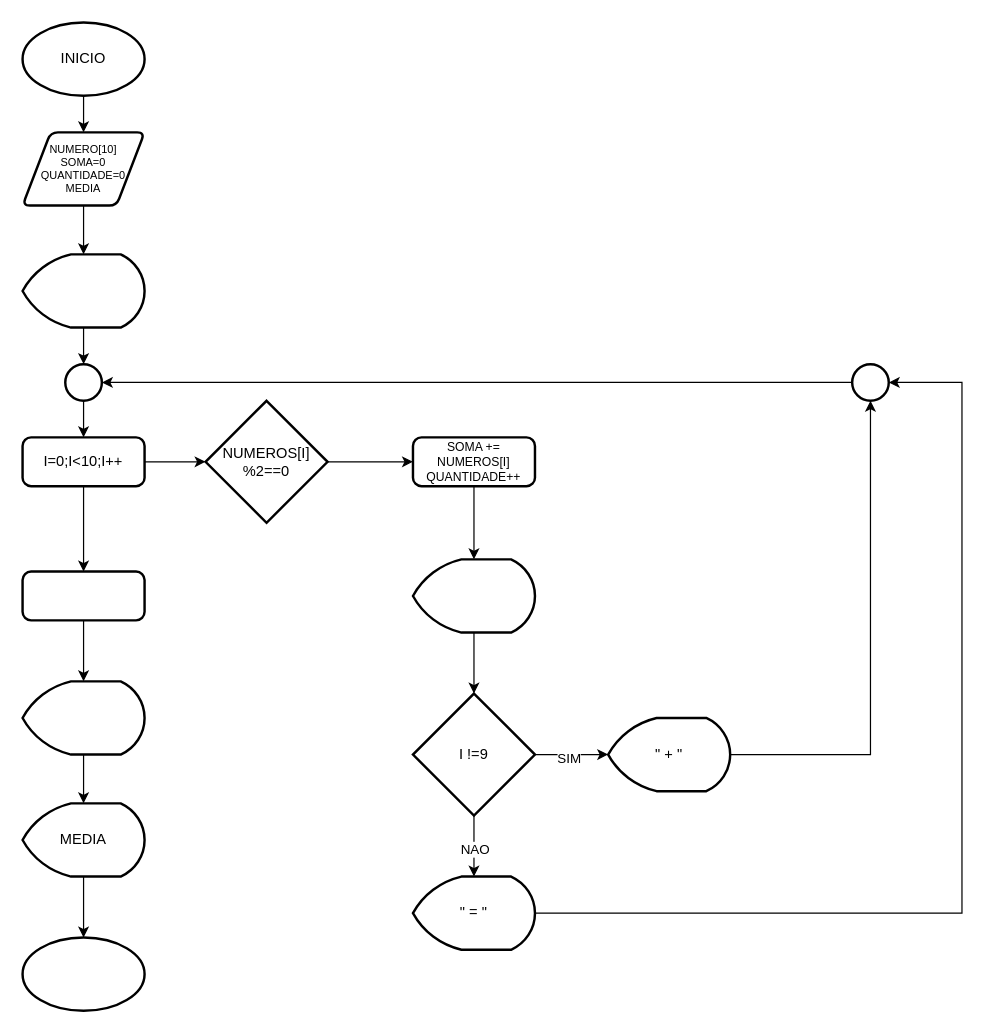
Some shapes in this 993 by 1032 pixel diagram are drawn without their labels. The shapes that lost their labels are listed below. From the top down, each one's centre as x and y in pixels, then its label:
[83,290]: "Soma dos números pares"
[83,595]: MEDIA = SOMA/QUANTIDADE
[473,595]: NUMEROS[I]
[83,717]: SOMA
[83,973]: FIM
